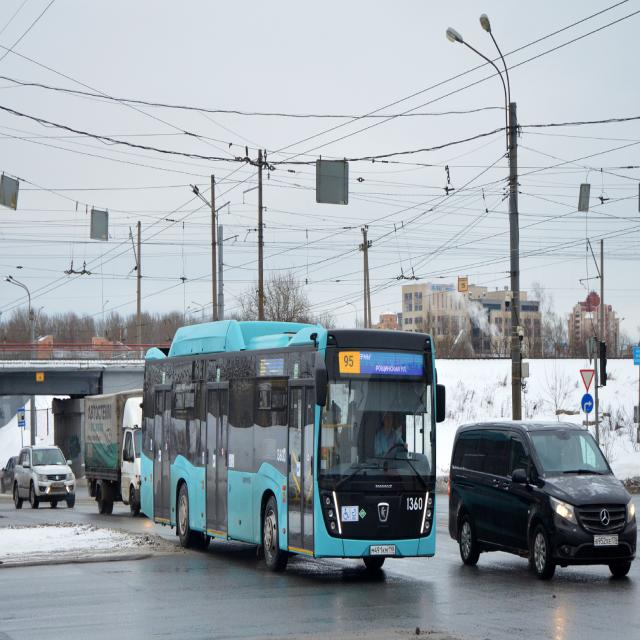number-of-bus: (343, 355, 356, 369)
